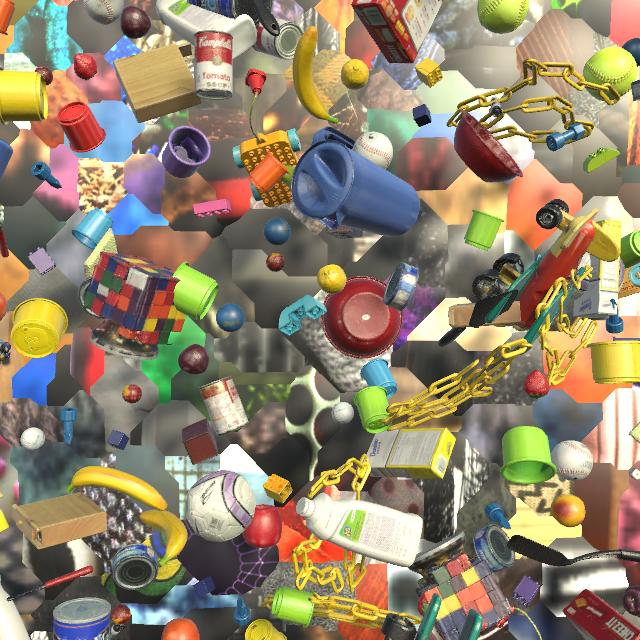ycb_002_master_chef_can: (187, 0, 274, 31), (53, 598, 111, 640)
ycb_003_cracker_box: (351, 0, 443, 63), (562, 589, 640, 640)
ycb_004_sugar_box: (573, 220, 622, 318), (364, 428, 456, 479), (0, 510, 9, 532)
ycb_005_tomato_soup_can: (198, 375, 248, 436), (194, 30, 233, 100), (252, 18, 303, 60)
ycb_007_tuna_fish_can: (112, 543, 159, 590), (473, 524, 516, 573), (383, 262, 419, 311), (78, 276, 106, 319), (631, 80, 640, 101)
ycb_011_banana: (66, 466, 168, 511), (293, 26, 339, 124), (140, 510, 188, 567)
ycb_012_strawberry: (524, 370, 550, 398), (74, 53, 97, 80), (417, 593, 429, 616)
ycb_013_apple: (243, 504, 282, 548)
ycb_014_lemon: (317, 264, 346, 294), (341, 59, 369, 90)
ycb_015_peach: (550, 494, 585, 527)
ycb_016_pear: (280, 165, 295, 190)
ycb_017_orange: (161, 618, 200, 640), (0, 293, 7, 321)
ycb_018_plum: (120, 6, 151, 39), (178, 344, 209, 374), (622, 586, 640, 616)
